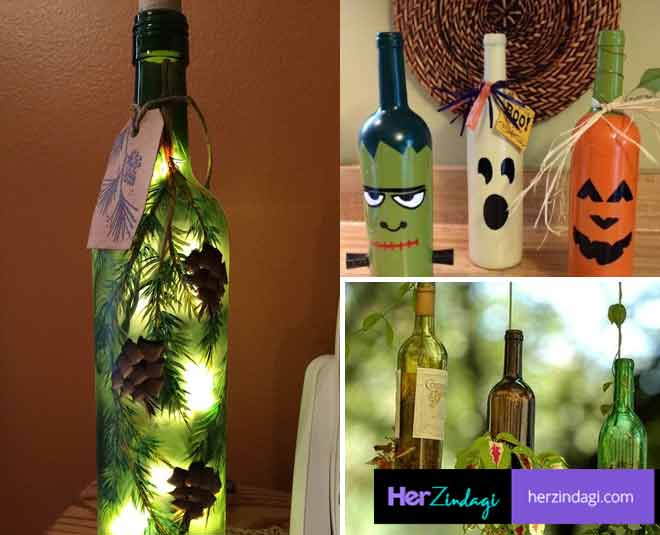glass_bottle: (357, 28, 440, 282), (566, 28, 638, 279), (459, 30, 529, 272)
